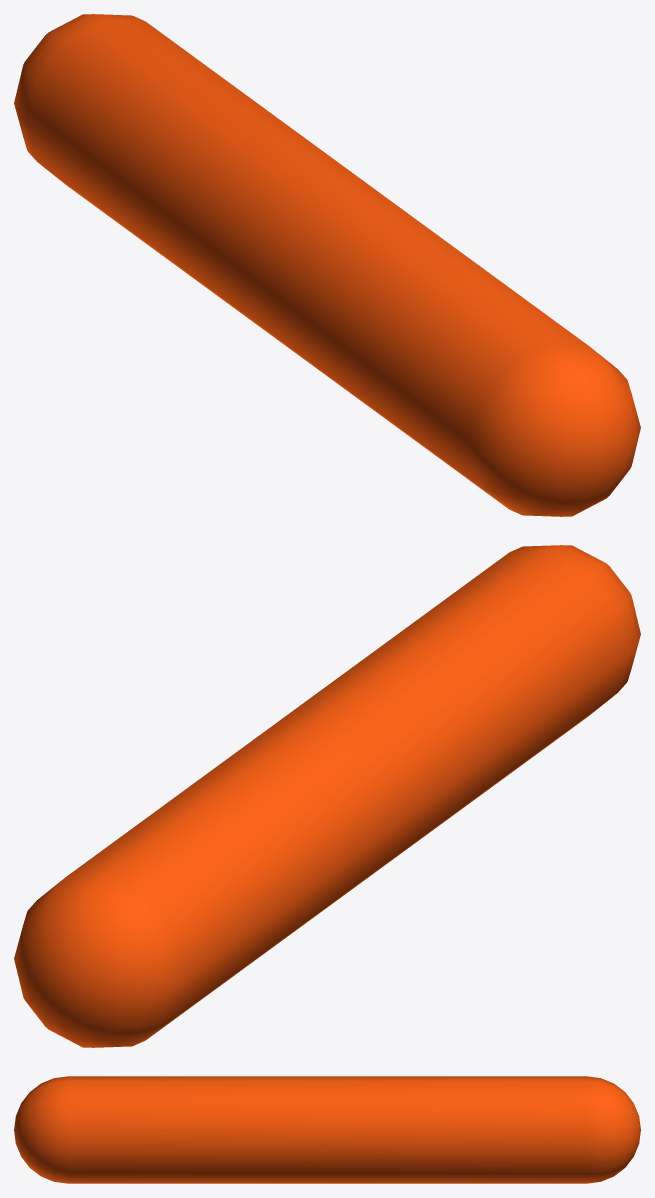
Rendered from Mapa13_TiroA.FBX.
The picture shows the model from 3 angles, top to bottom: view 1: azimuth 30°, elevation 25°; view 2: azimuth 150°, elevation 25°; view 3: azimuth 270°, elevation 25°; orthographic projection. The views are drawn at different scales.
Visible parts, largest first — view 1: TiroA_Mapa13; view 2: TiroA_Mapa13; view 3: TiroA_Mapa13.
Part boxes in pixels (x1=…): TiroA_Mapa13: x1=14, y1=14, x2=640, y2=516; TiroA_Mapa13: x1=14, y1=545, x2=640, y2=1047; TiroA_Mapa13: x1=14, y1=1076, x2=640, y2=1183.
Bounding box in the file's own units: 8.98 × 8.98 × 52.32.
